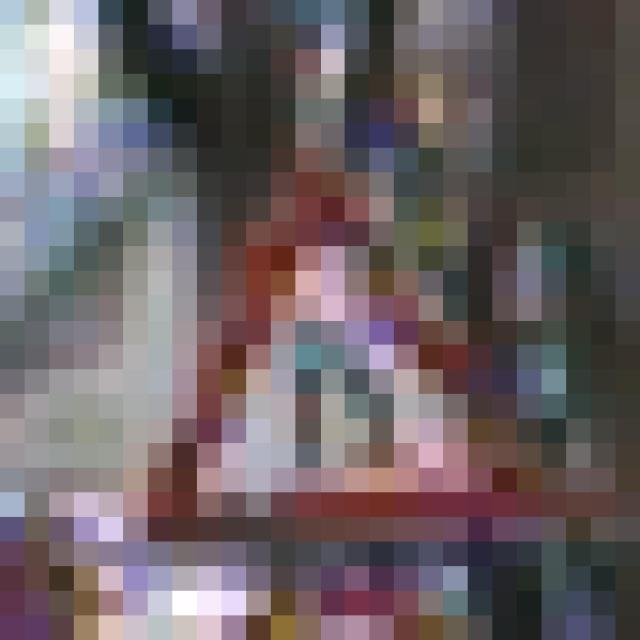-Road narrows on right: (99, 173, 492, 542)
